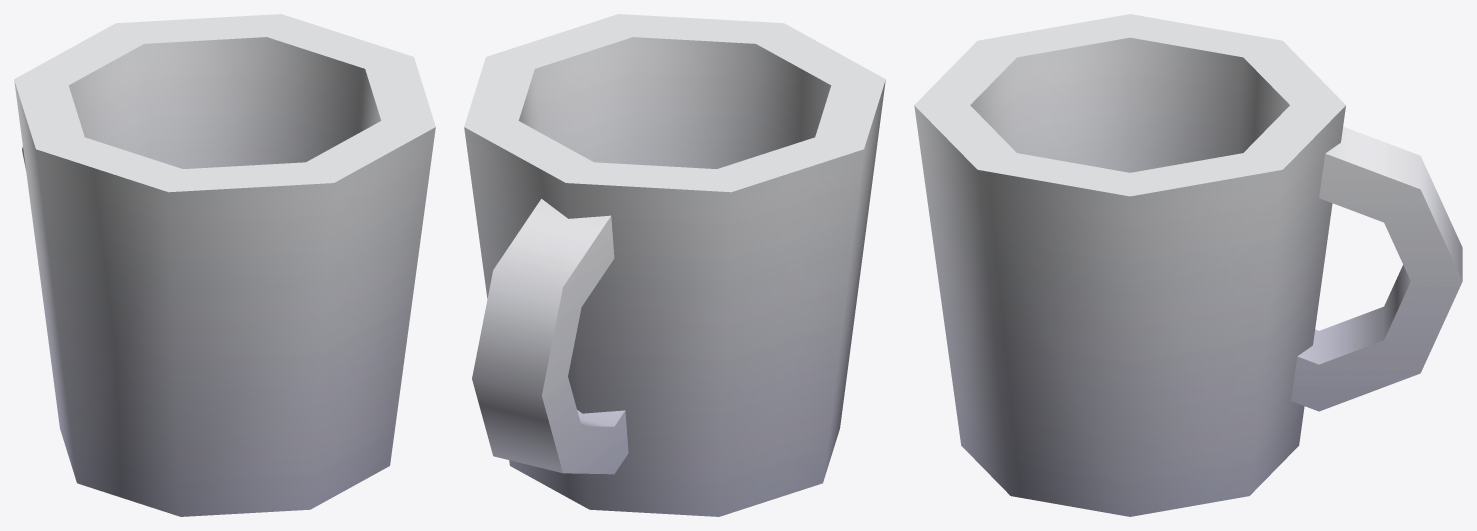
The model's file is cup.glb.
3 renders of one model, left to right at view 1: azimuth 30°, elevation 25°; view 2: azimuth 150°, elevation 25°; view 3: azimuth 270°, elevation 25°, orthographic.
Visible parts, largest first — view 1: cup; view 2: cup; view 3: cup.
Part boxes in pixels (box(x1,y1,x2,y2)): cup: box(14, 14, 435, 516); cup: box(464, 14, 885, 516); cup: box(914, 14, 1462, 516).
Bounding box in the file's own units: 0.23 × 0.2 × 0.2921.
Materials: 1 (1 with a texture image).
